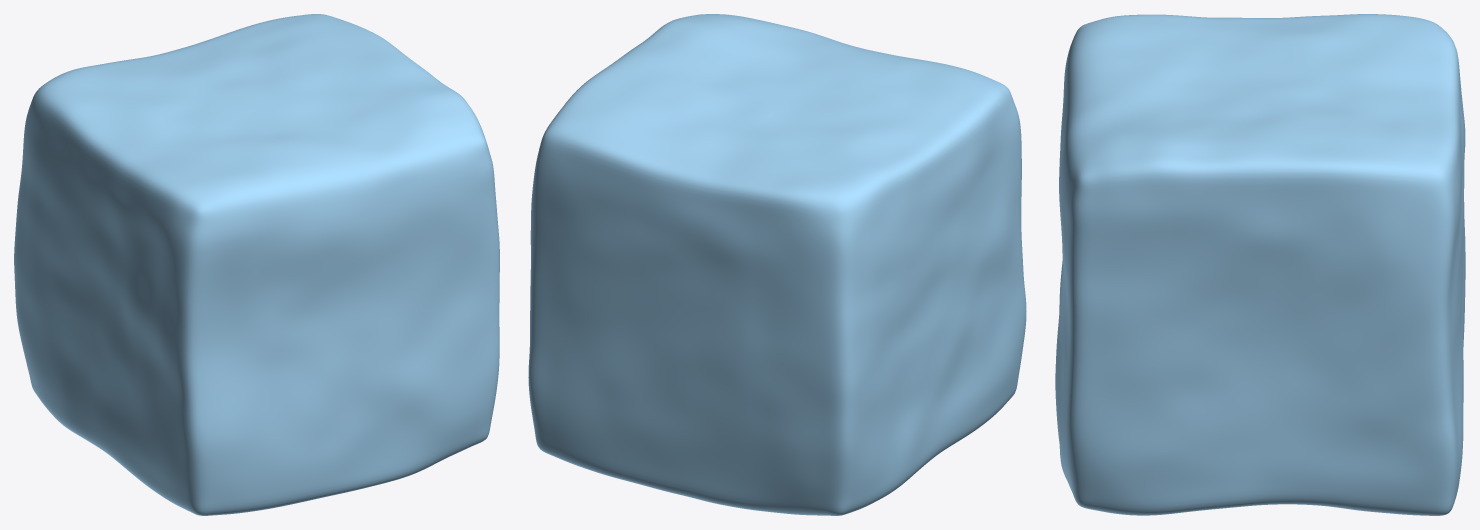
Rendered from Icecube.fbx.
3 views of the same model, side by side, from view 1: azimuth 30°, elevation 25°; view 2: azimuth 150°, elevation 25°; view 3: azimuth 270°, elevation 25° (orthographic). The views are drawn at different scales.
Parts seen in each view (by area): view 1: Cube; view 2: Cube; view 3: Cube.
Boxes of the visible parts, x1,y1,x2,y2 form: Cube: (14,14,499,515); Cube: (528,14,1026,515); Cube: (1055,14,1465,515).
Size of the model in its own units: 206 by 207 by 205.
